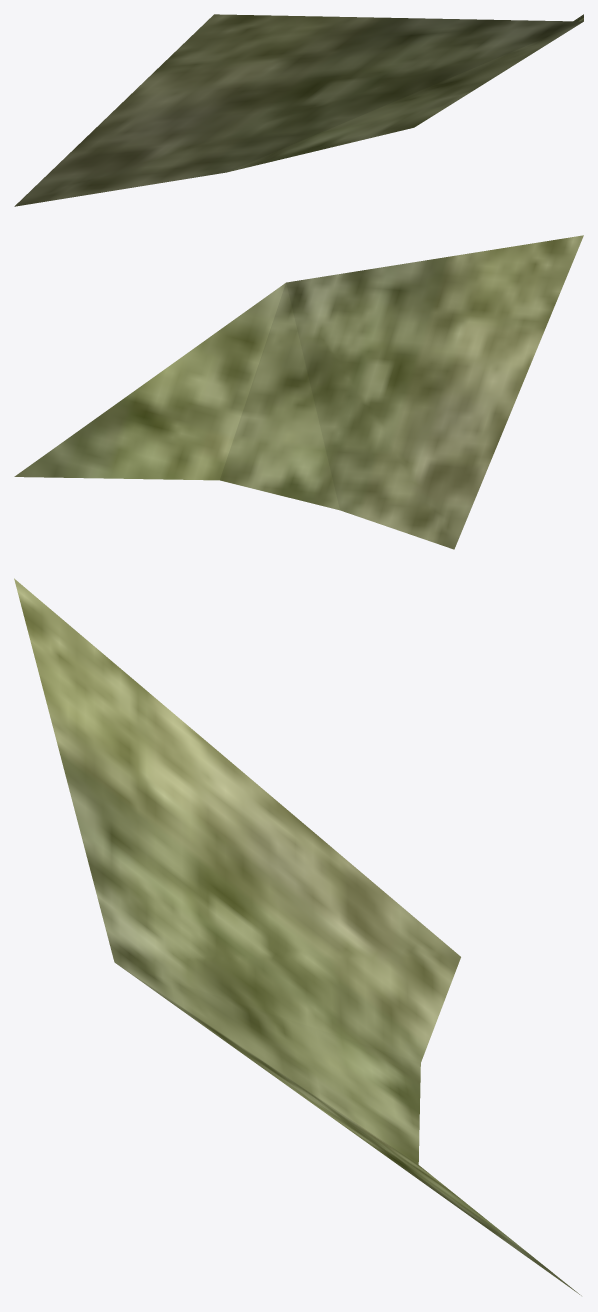
3 views of the same model, one above another, from view 1: azimuth 30°, elevation 25°; view 2: azimuth 150°, elevation 25°; view 3: azimuth 270°, elevation 25° (orthographic). The views are drawn at different scales.
Bounding box in the file's own units: 0.777 × 0.4027 × 0.5493.
Materials: 1 (1 with a texture image).
